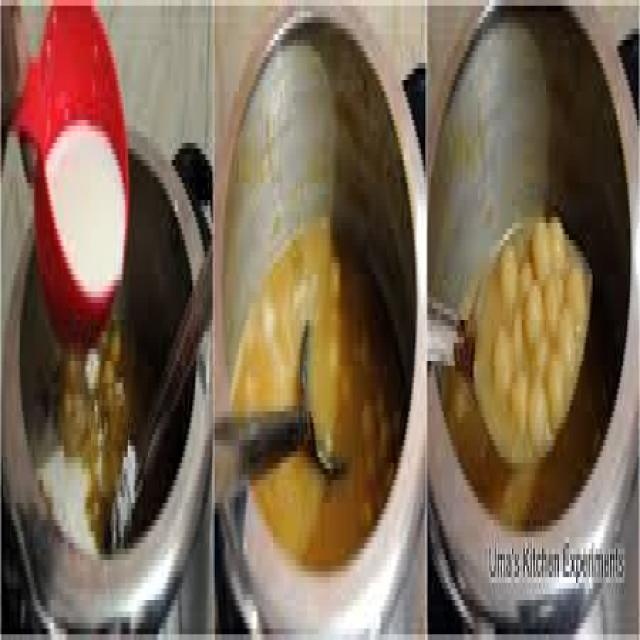paal kolukattai: (444, 91, 612, 586)
